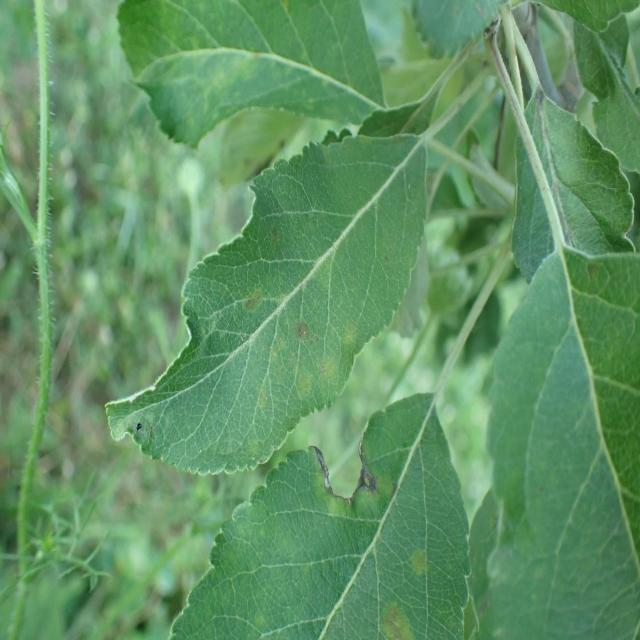scab: (159, 156, 421, 393), (279, 424, 463, 640), (130, 0, 380, 103)
